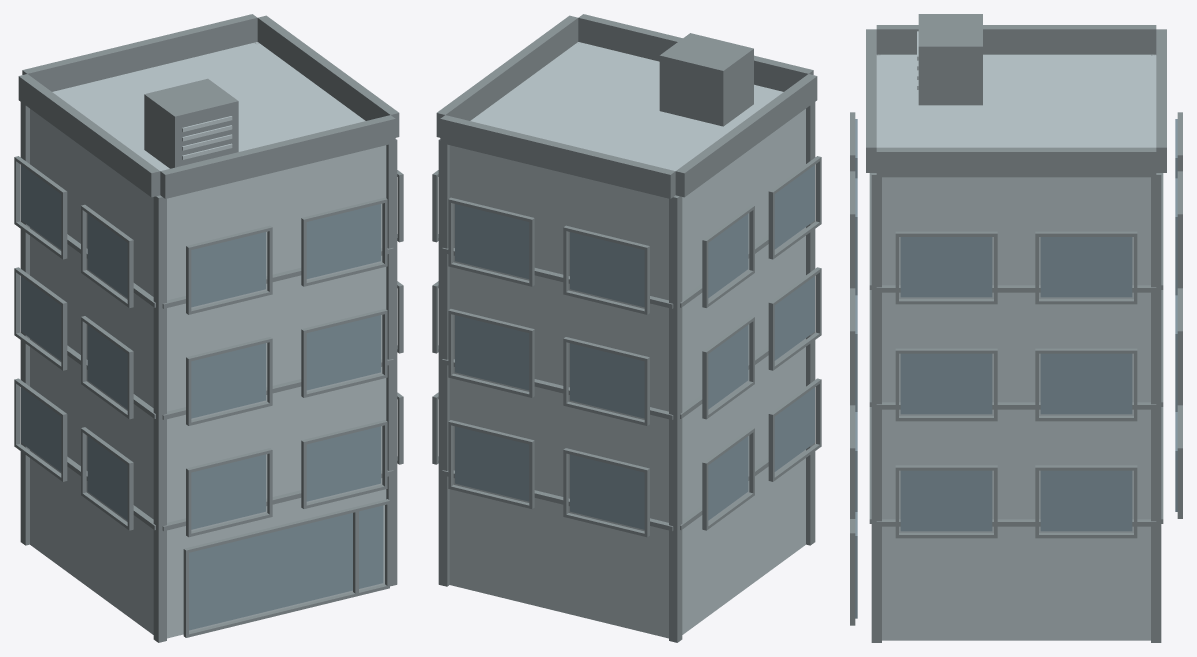
The model's file is lot_1x1_slab.glb.
3 views of the same model, side by side, from view 1: azimuth 30°, elevation 25°; view 2: azimuth 150°, elevation 25°; view 3: azimuth 270°, elevation 25° (orthographic). The views are drawn at different scales.
Visible parts, largest first — view 1: lot_1x1_slab; view 2: lot_1x1_slab; view 3: lot_1x1_slab.
Part boxes in pixels (x1,y1,x2,y2): lot_1x1_slab: (14,14,403,642); lot_1x1_slab: (432,14,821,642); lot_1x1_slab: (850,14,1182,642).
Bounding box in the file's own units: 7.74 × 13.5 × 7.74.
